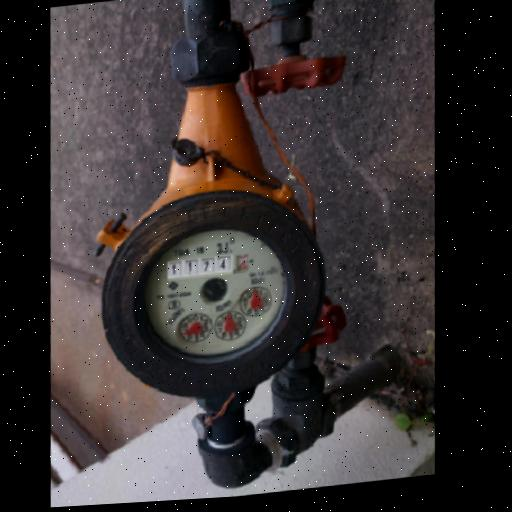1: (169, 261, 182, 277), (185, 259, 198, 275)
4: (218, 256, 231, 272), (236, 255, 248, 271)
7: (201, 258, 214, 274)
border_water_meter_number: (165, 253, 250, 281)
